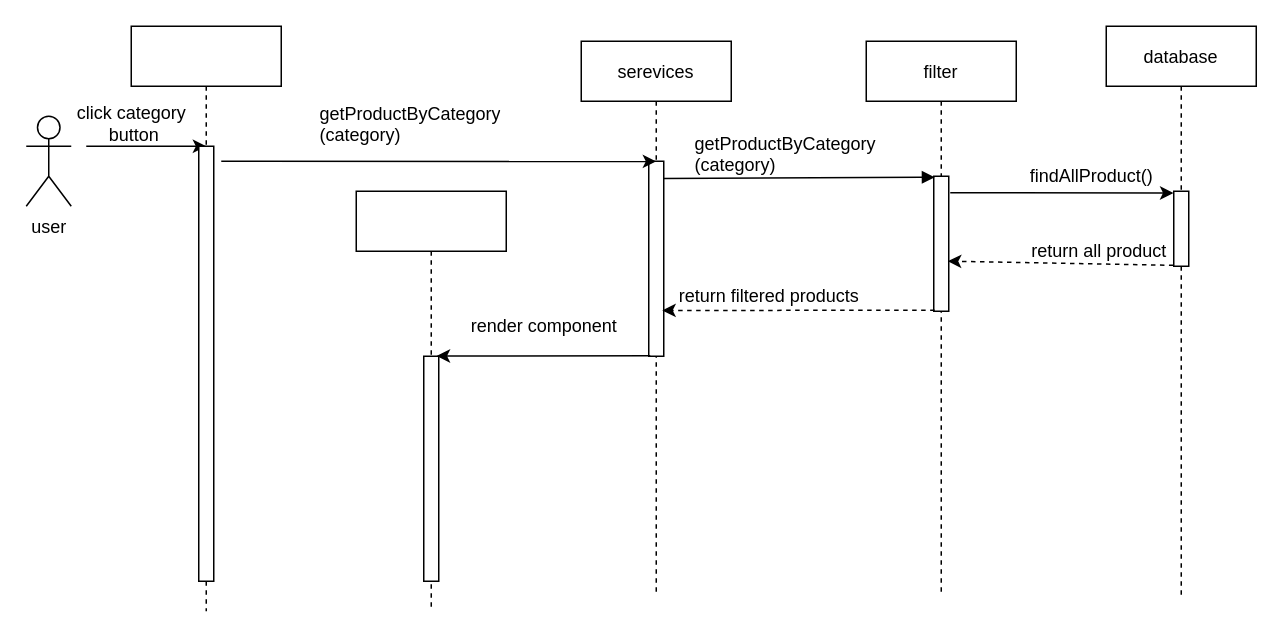
Image size: 1283x638. Some labels were removed from this diagram. Here are the shapes that lost their labels. From the top down, the box of each, then its label:
(130, 25, 281, 611): Navbar component
(355, 190, 506, 611): List of Products Component
